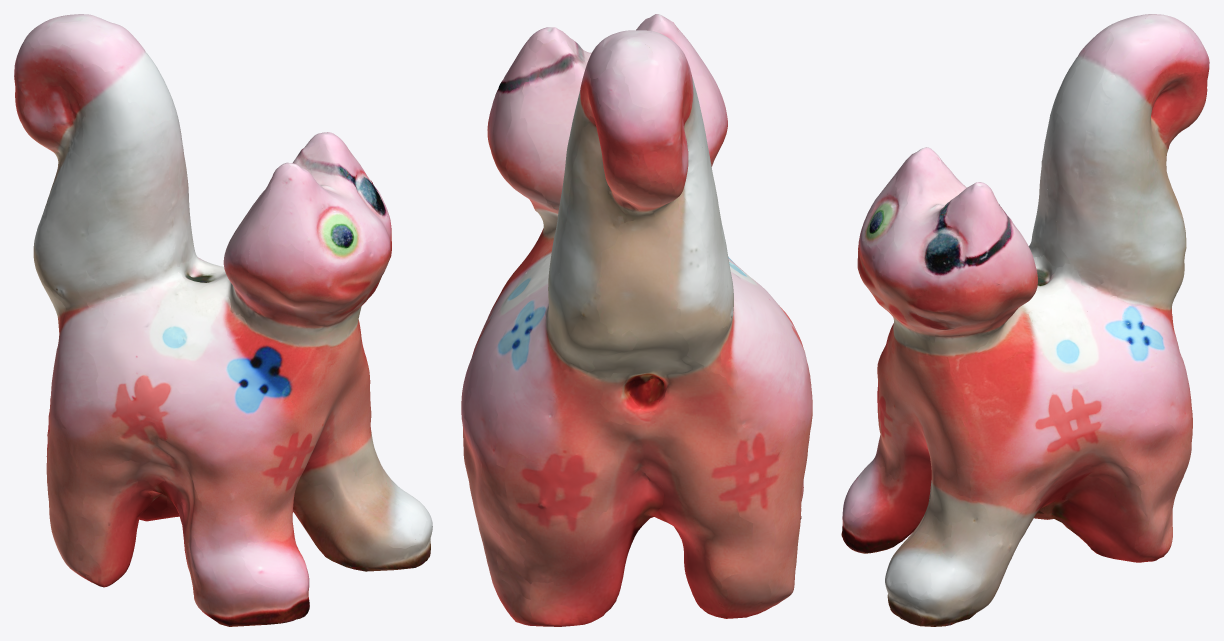
File: asset.glb
3 views of the same model, side by side, from view 1: azimuth 30°, elevation 25°; view 2: azimuth 150°, elevation 25°; view 3: azimuth 270°, elevation 25° (orthographic). The views are drawn at different scales.
Visible parts, largest first — view 1: Mesh_0; view 2: Mesh_0; view 3: Mesh_0.
Part boxes in pixels (x1,y1,x2,y2): Mesh_0: [14, 14, 432, 626]; Mesh_0: [461, 14, 812, 626]; Mesh_0: [841, 14, 1209, 626].
Size of the model in its own units: 1.72 by 2.67 by 1.76.
1 material, 1 textured.
